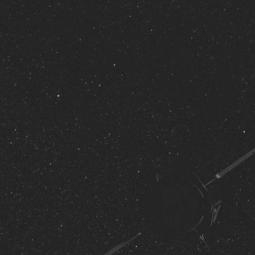xmm_newton: (114, 122, 251, 255)
